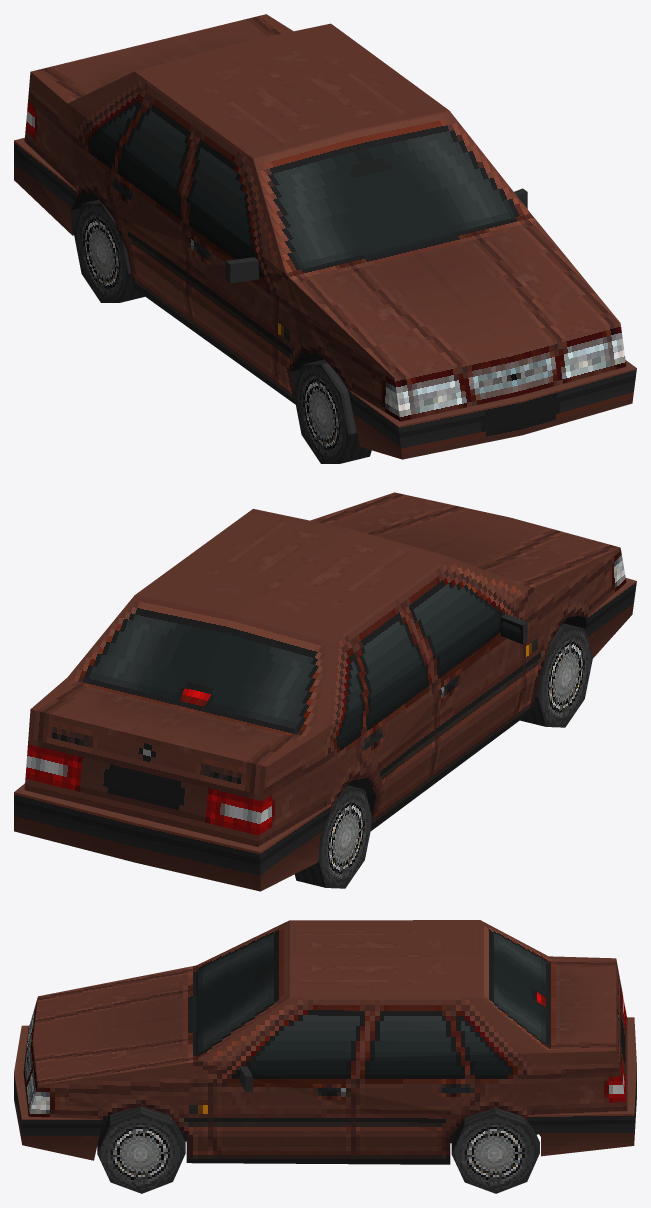
Rendered from CarRed.glb.
3 renders of one model, top to bottom at view 1: azimuth 30°, elevation 25°; view 2: azimuth 150°, elevation 25°; view 3: azimuth 270°, elevation 25°, orthographic. The views are drawn at different scales.
Parts seen in each view (by area): view 1: Car2; view 2: Car2; view 3: Car2.
Part boxes in pixels (x1,y1,x2,y2): Car2: [14, 14, 636, 463]; Car2: [14, 492, 636, 891]; Car2: [14, 920, 636, 1193].
Bounding box in the file's own units: 2.9 × 2.2 × 6.53.
1 material, 1 textured.
